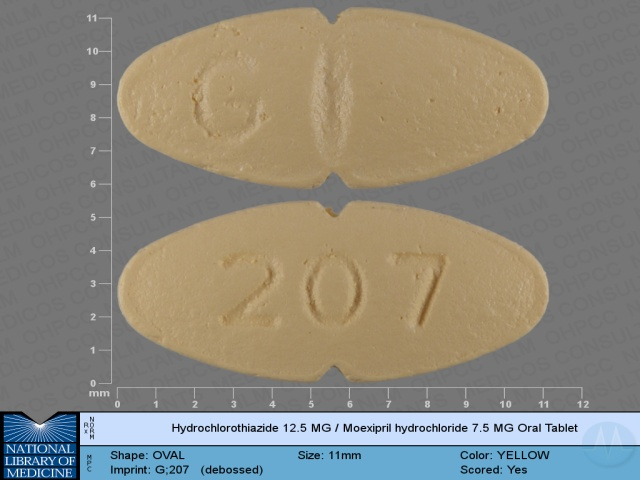0: (298, 248, 370, 332)
2: (215, 247, 289, 333)
7: (386, 245, 452, 332)
G: (188, 42, 261, 151)
|: (313, 10, 358, 189)
